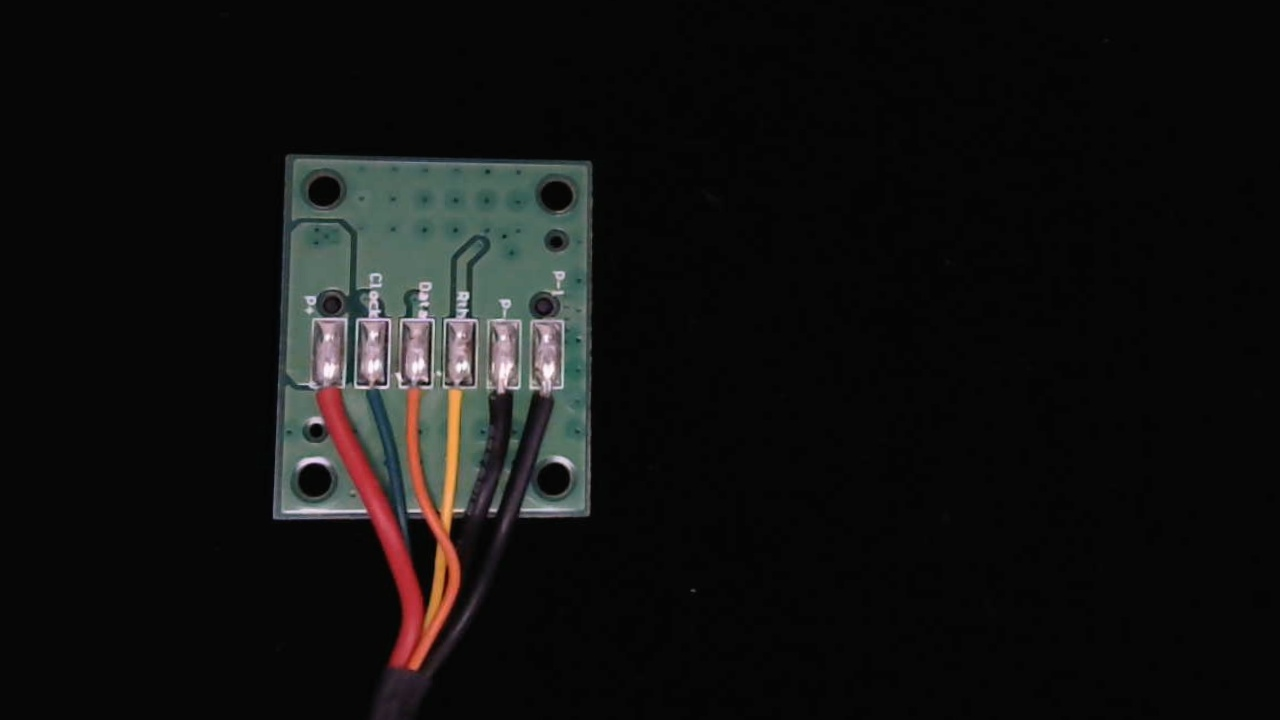Black: (481, 370, 521, 444)
Black1: (531, 371, 566, 438)
Green: (349, 366, 390, 444)
Orange: (396, 367, 434, 447)
Red: (307, 369, 348, 447)
Yellow: (439, 368, 477, 436)
